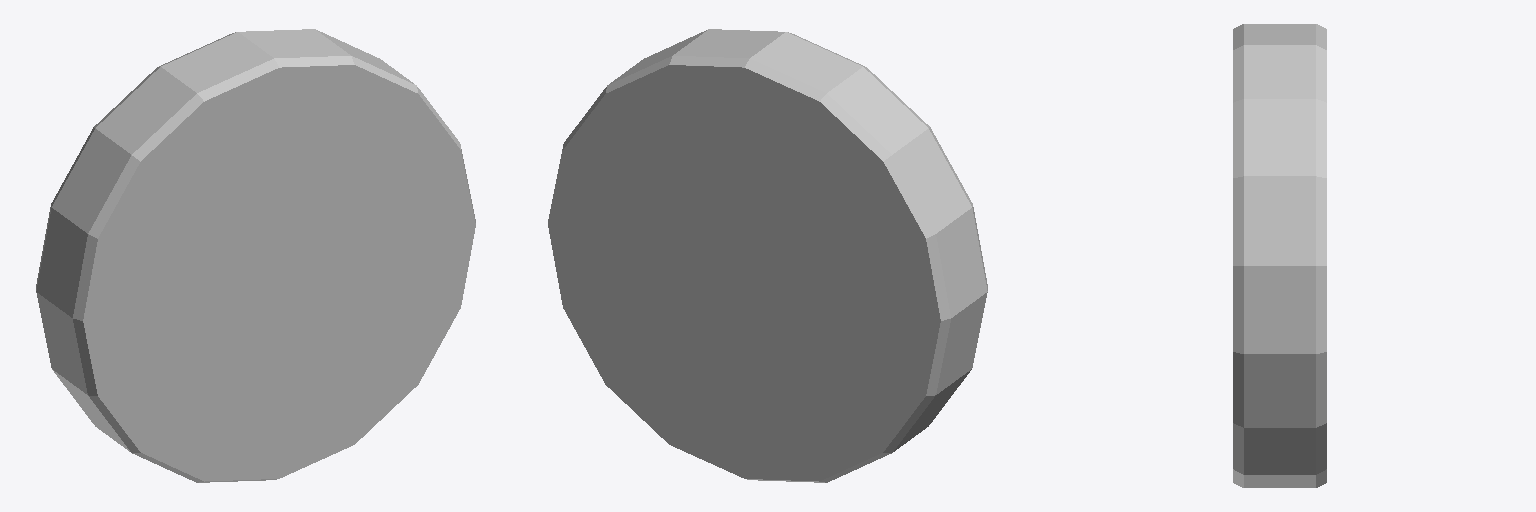
File: coin.obj
3 views of the same model, side by side, from view 1: azimuth 30°, elevation 25°; view 2: azimuth 150°, elevation 25°; view 3: azimuth 270°, elevation 25° (orthographic).
Visible parts, largest first — view 1: Cylinder; view 2: Cylinder; view 3: Cylinder.
Boxes of the visible parts, box(x1,y1,x2,y2) form: Cylinder: box(36, 29, 475, 482); Cylinder: box(548, 29, 987, 482); Cylinder: box(1233, 24, 1326, 487).
Bounding box in the file's own units: 1.19 × 1.19 × 0.2414.